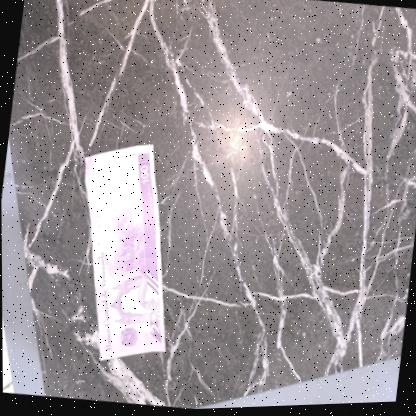one_hundred-back-vef: (60, 136, 190, 371)
